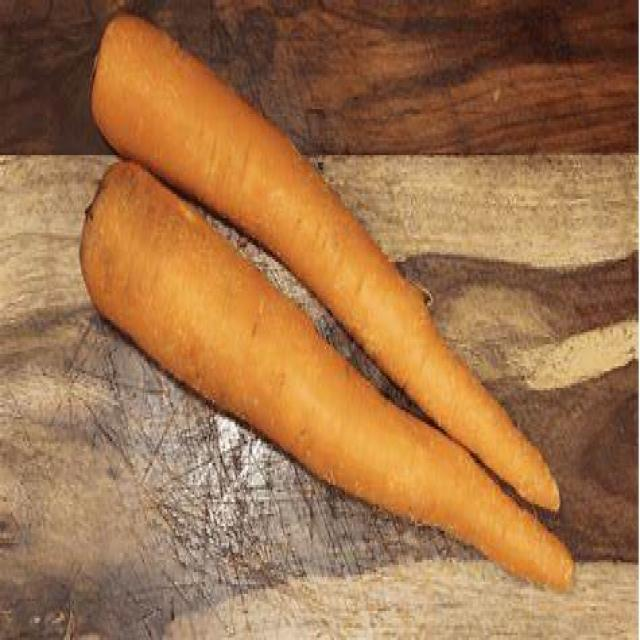Carrot: (93, 18, 562, 507), (82, 160, 580, 592)
